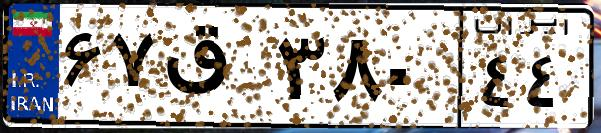0: (385, 28, 445, 110)
3: (270, 28, 330, 110)
4: (475, 38, 525, 113), (525, 38, 570, 115)
6: (57, 26, 110, 100)
7: (110, 28, 158, 98)
8: (330, 28, 385, 110)
ق: (158, 20, 270, 120)
